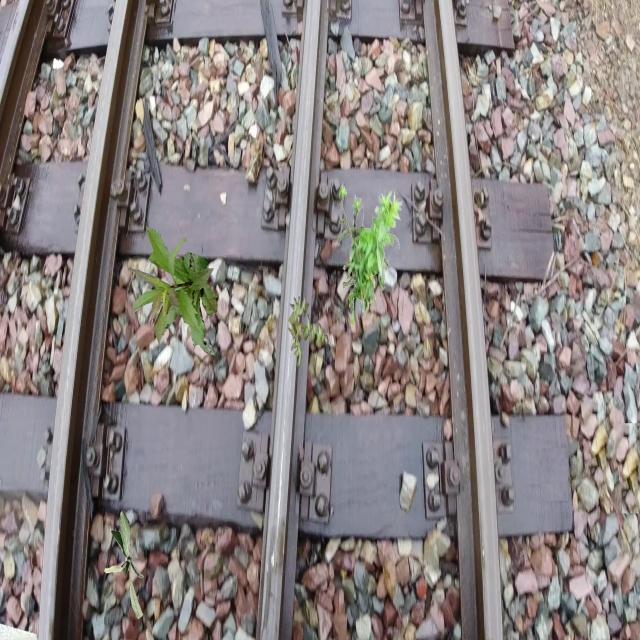Plant: (129, 227, 218, 357), (338, 183, 402, 326), (104, 510, 144, 620), (287, 296, 328, 368)
